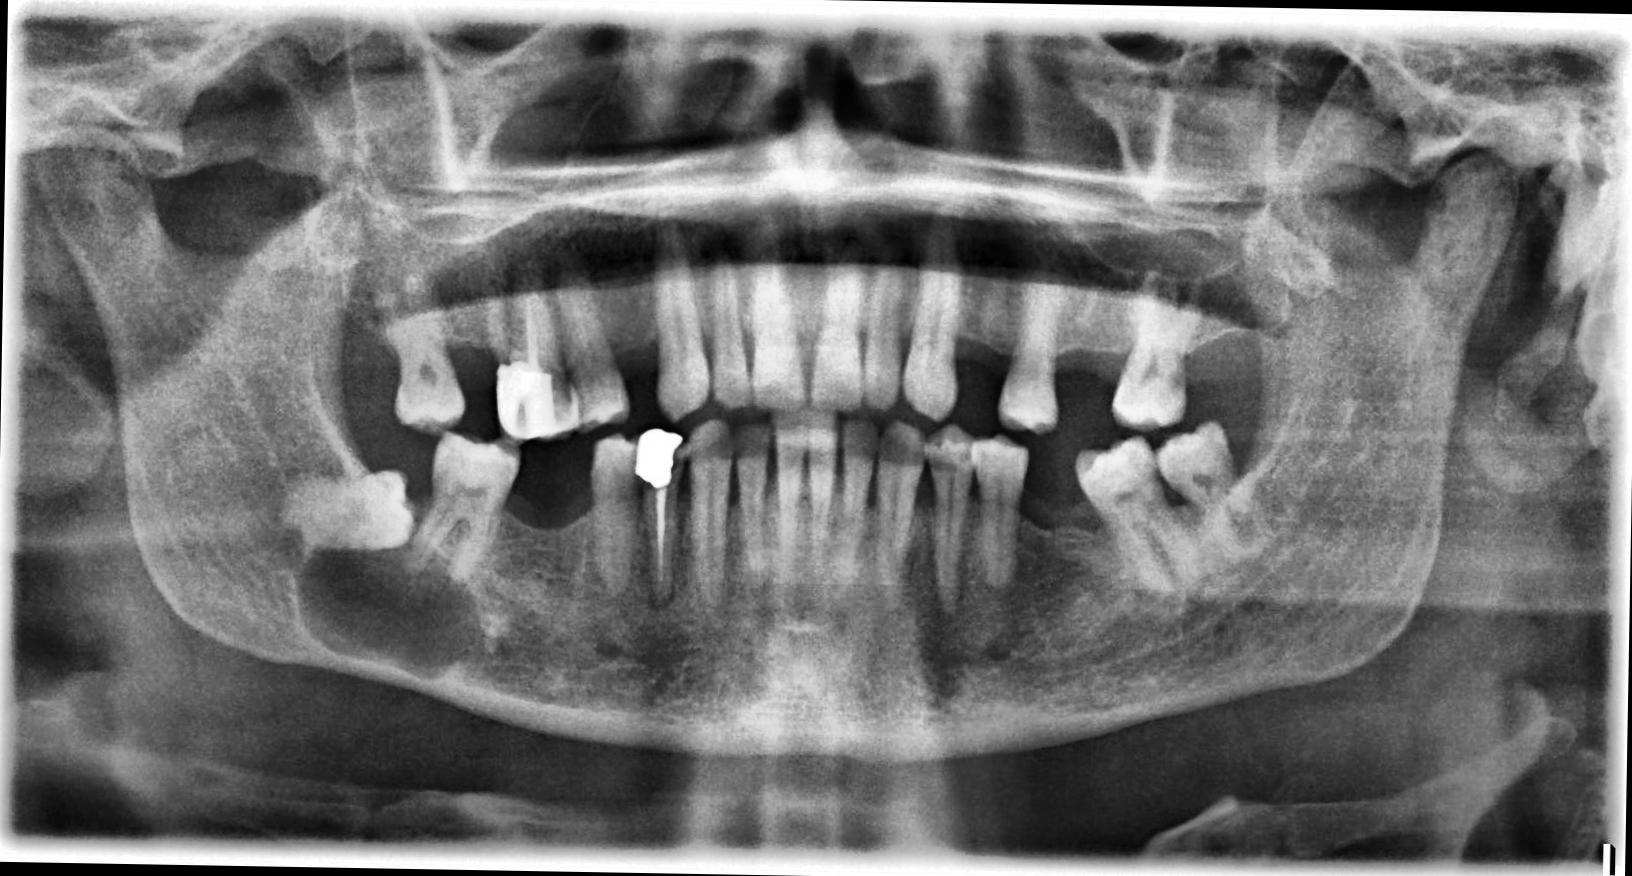keratokist: (296, 532, 484, 682)
